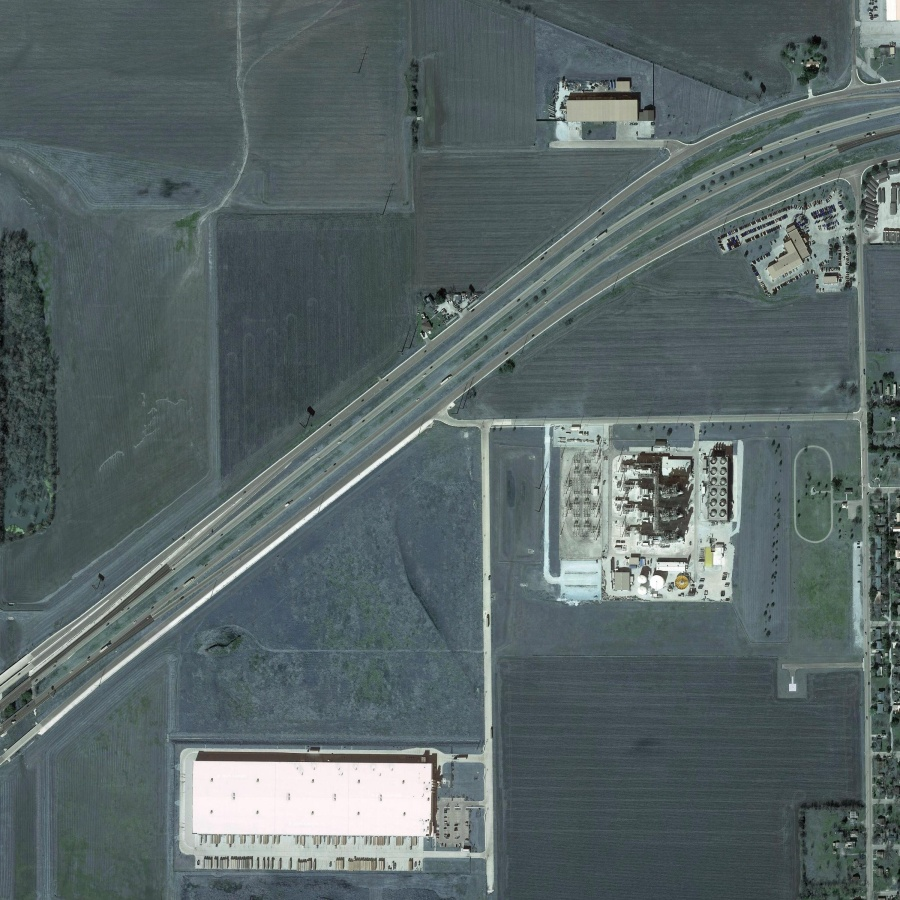PowerPlant: (546, 419, 740, 608)
